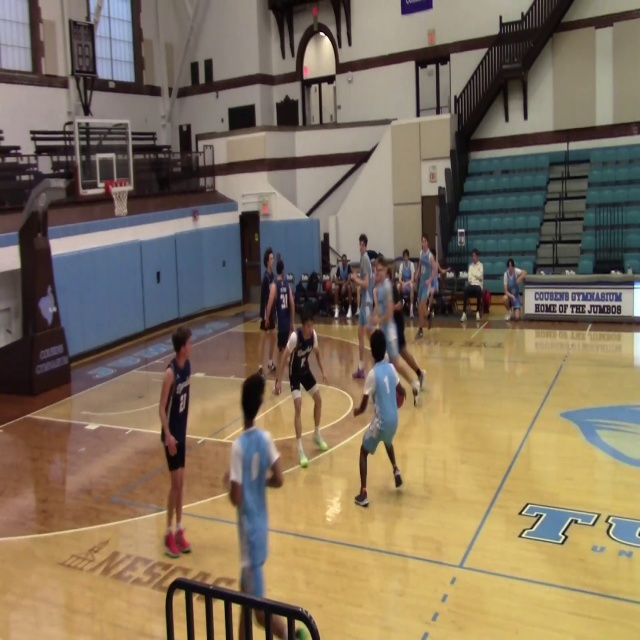Basketball: (395, 381, 406, 408), (400, 282, 411, 297)
